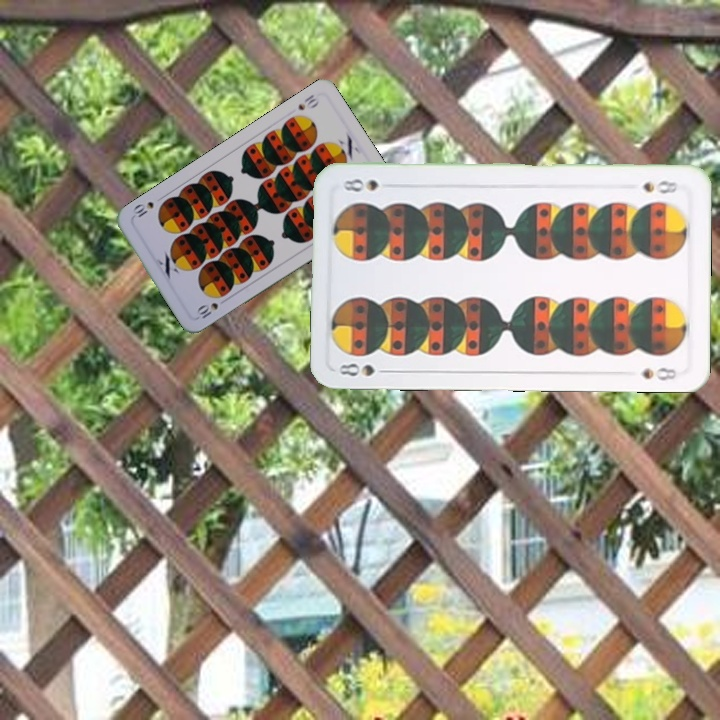S10: (192, 294, 230, 323), (294, 90, 322, 113)
S8: (335, 359, 394, 379), (638, 177, 685, 197)
